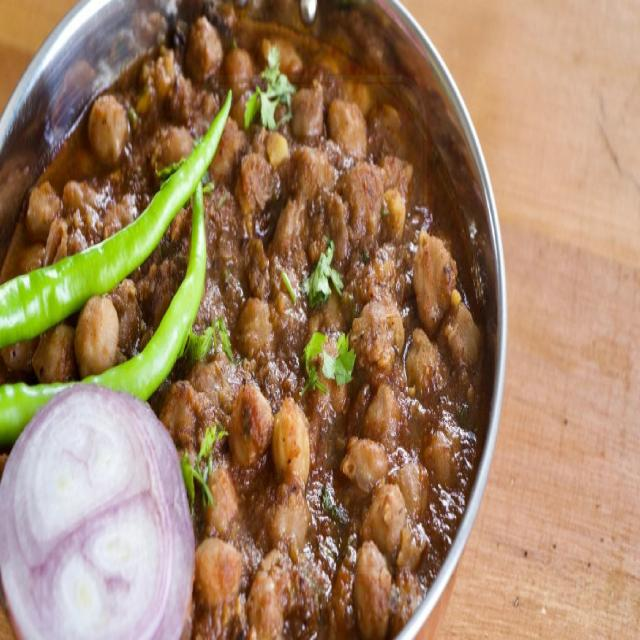Chole: (0, 15, 483, 640)
